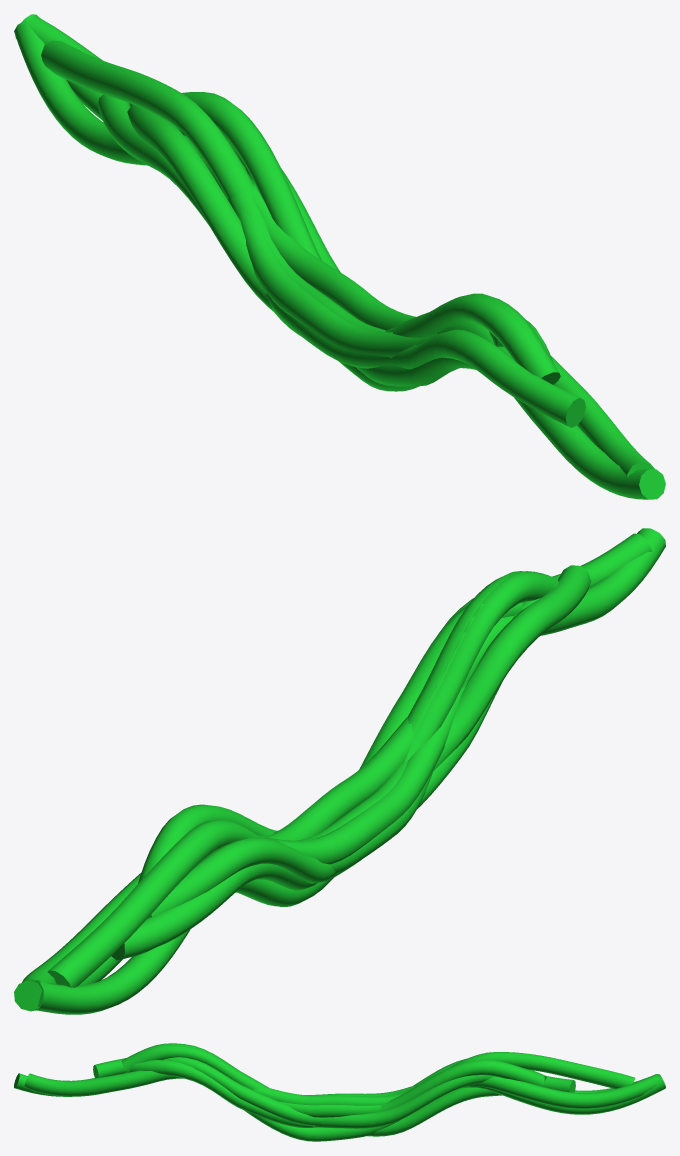
The model's file is leaf2.fbx.
The picture shows the model from 3 angles, top to bottom: view 1: azimuth 30°, elevation 25°; view 2: azimuth 150°, elevation 25°; view 3: azimuth 270°, elevation 25°; orthographic projection. The views are drawn at different scales.
Parts seen in each view (by area): view 1: NURBSパス; view 2: NURBSパス; view 3: NURBSパス.
Part boxes in pixels (x1,y1,x2,y2): NURBSパス: (14, 14, 665, 499); NURBSパス: (14, 528, 665, 1014); NURBSパス: (14, 1043, 665, 1141).
Bounding box in the file's own units: 1571 × 3032 × 19143.
